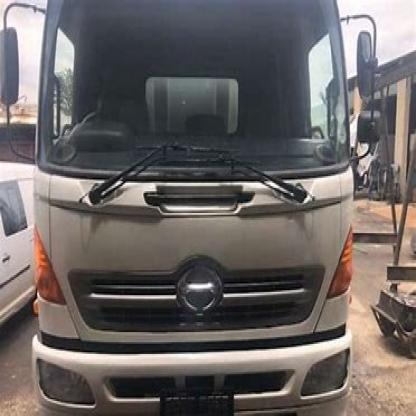dump_truck: (20, 0, 360, 411)
